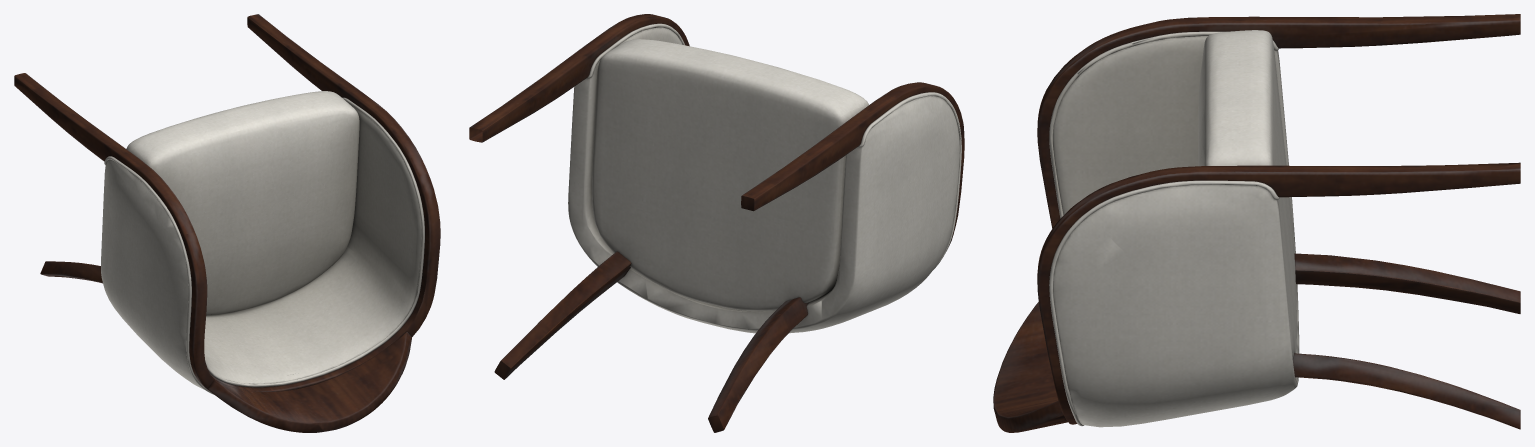
3 renders of one model, left to right at view 1: azimuth 30°, elevation 25°; view 2: azimuth 150°, elevation 25°; view 3: azimuth 270°, elevation 25°, orthographic. The views are drawn at different scales.
Size of the model in its own units: 0.5116 by 0.4668 by 0.6716.
1 material, 1 textured.
